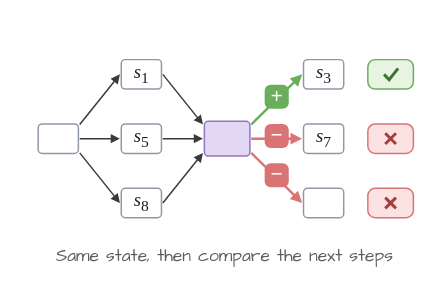
Image size: 448x300. Some labels were removed from this diagram. The shapes that lost their labels are listed below. From the top down, each one's centre as x and y in pixels, then its label:
At pixel 58 138: "s 0".
At pixel 226 138: "s 2".
At pixel 323 202: "s 9".
